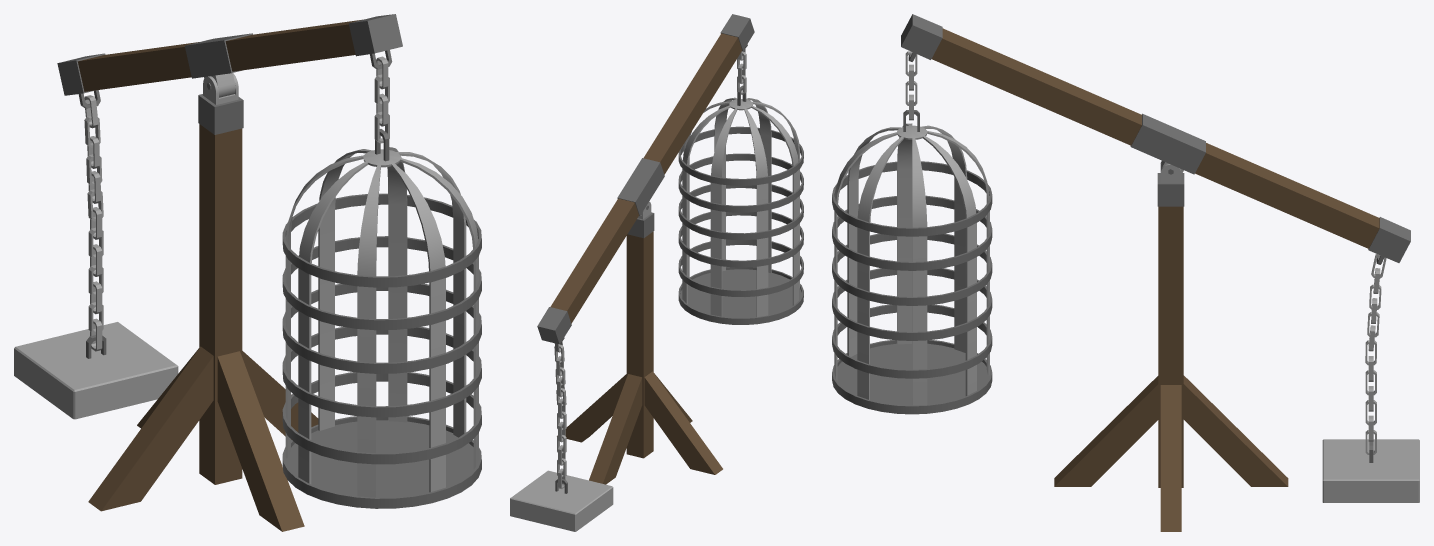
File: Torture Device-XVLSpgpSLd.glb
3 views of the same model, side by side, from view 1: azimuth 30°, elevation 25°; view 2: azimuth 150°, elevation 25°; view 3: azimuth 270°, elevation 25° (orthographic). The views are drawn at different scales.
Visible parts, largest first — view 1: Torture Device-XVLSpgpSLd; view 2: Torture Device-XVLSpgpSLd; view 3: Torture Device-XVLSpgpSLd.
Part boxes in pixels (x1,y1,x2,y2): Torture Device-XVLSpgpSLd: (14,14,481,531); Torture Device-XVLSpgpSLd: (510,14,803,531); Torture Device-XVLSpgpSLd: (832,14,1419,531).
Bounding box in the file's own units: 1.85 × 4.03 × 4.64.
